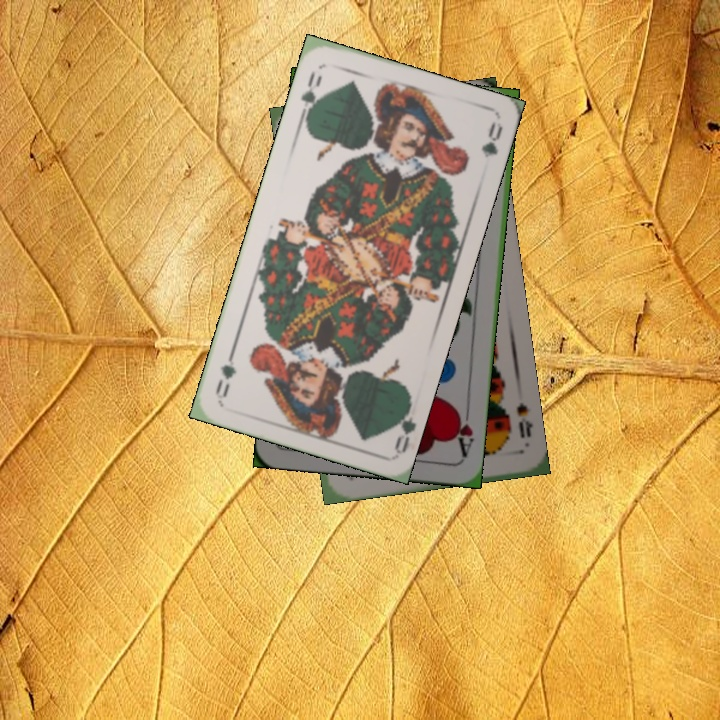GO: (386, 396, 417, 455), (296, 66, 325, 122)
HA: (449, 401, 477, 460)
S8: (512, 399, 535, 441)
